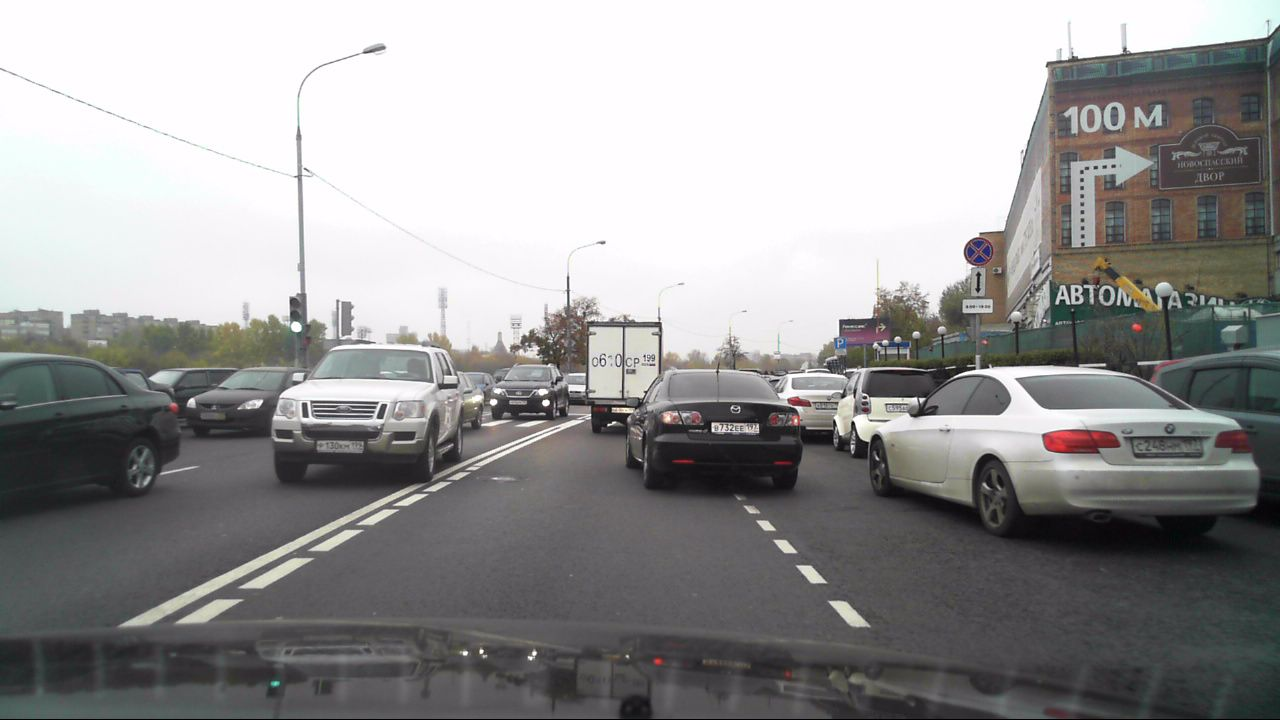No Parking: (962, 234, 993, 267)
